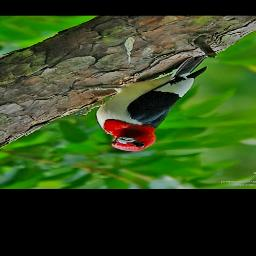Woodpecker: (75, 56, 215, 152)
